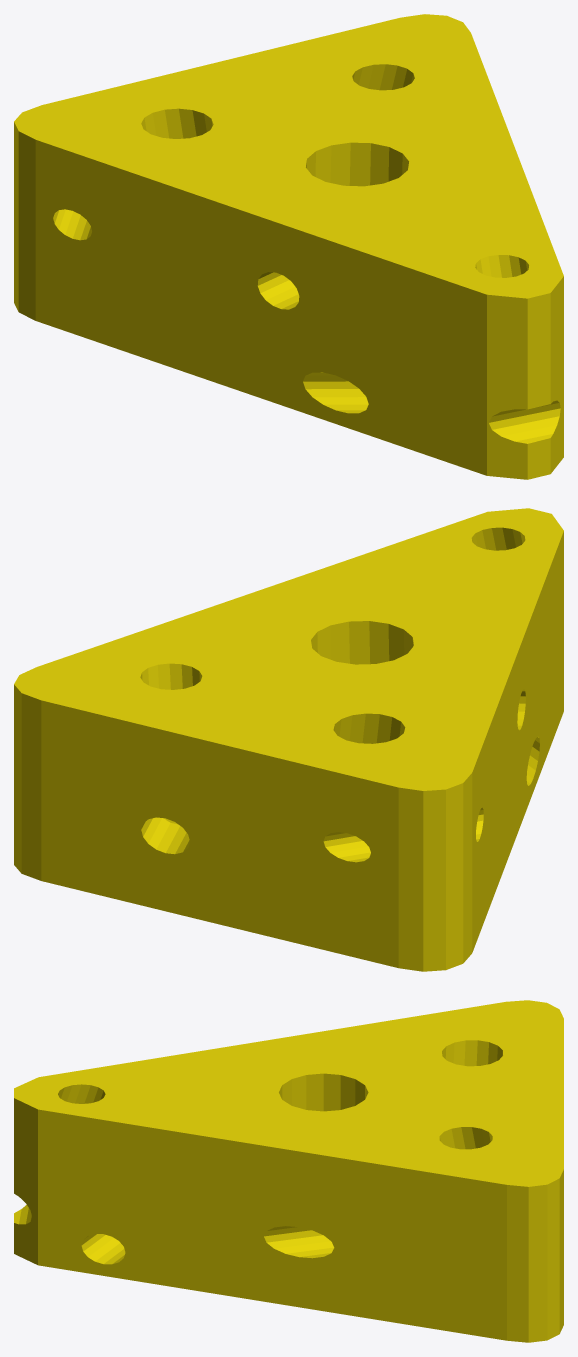
Rendered from cheese.fbx.
3 renders of one model, top to bottom at view 1: azimuth 30°, elevation 25°; view 2: azimuth 150°, elevation 25°; view 3: azimuth 270°, elevation 25°, orthographic. The views are drawn at different scales.
Parts seen in each view (by area): view 1: Cube; view 2: Cube; view 3: Cube.
Boxes of the visible parts, x1,y1,x2,y2 form: Cube: [14, 14, 563, 479]; Cube: [14, 508, 563, 971]; Cube: [14, 1000, 563, 1342].
Bounding box in the file's own units: 115 × 44.57 × 143.
